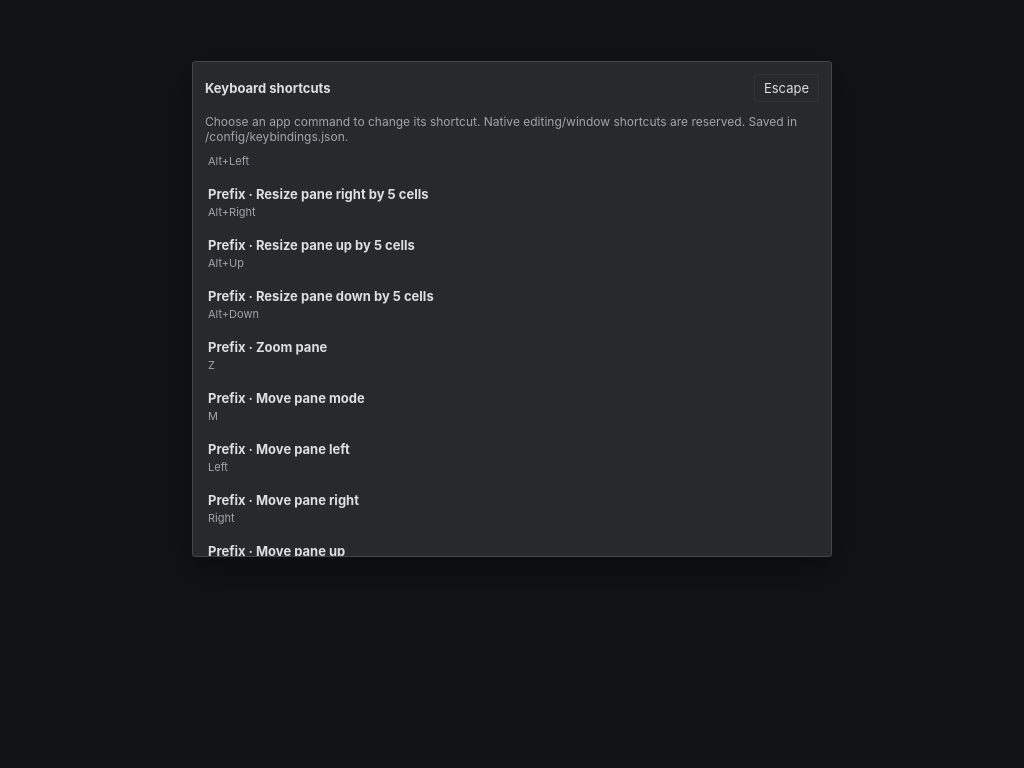
Test: reports action conflicts without writing settings
(page scrolled)
Click the option "Prefix · Zoom pane Z" at (268, 347), box [198, 330, 826, 381]
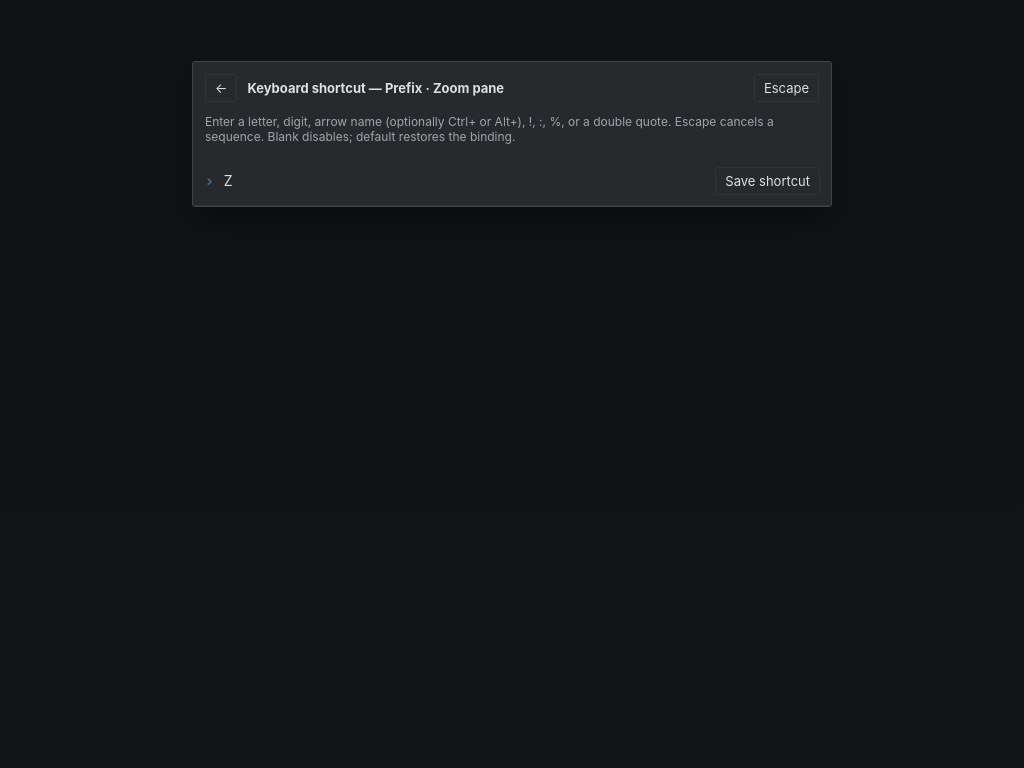
Replace the text in the field named "Shortcut" with "V" at (465, 181), box [224, 165, 706, 196]
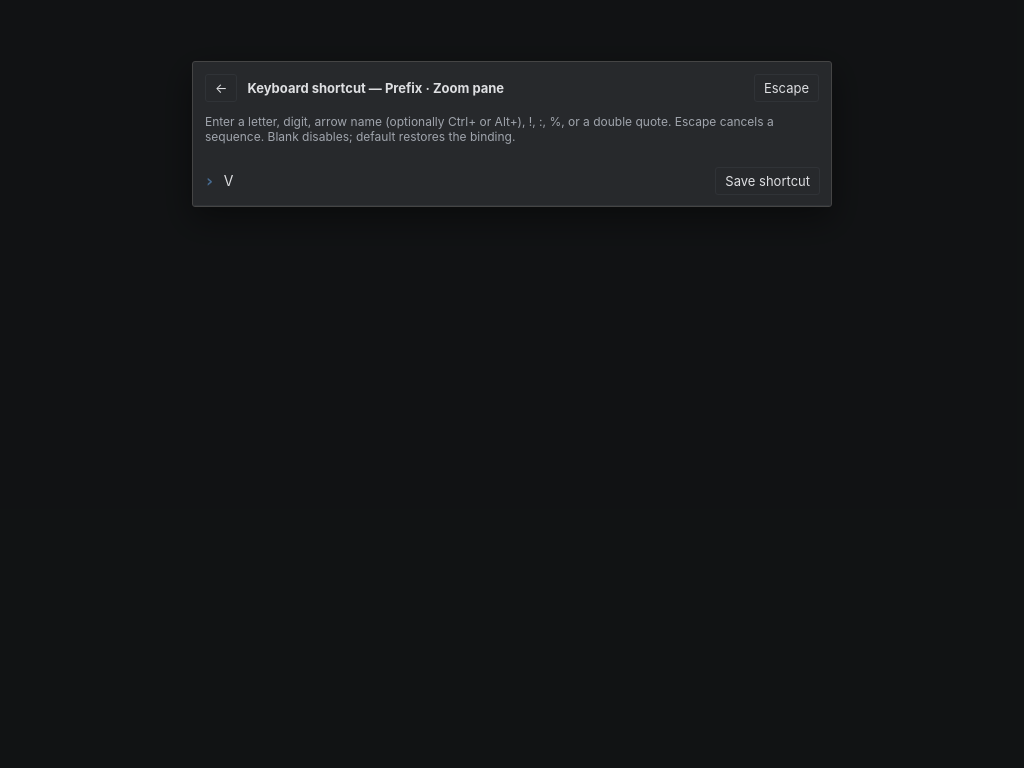
Click the button "Save shortcut" at (768, 181), box [715, 167, 820, 195]
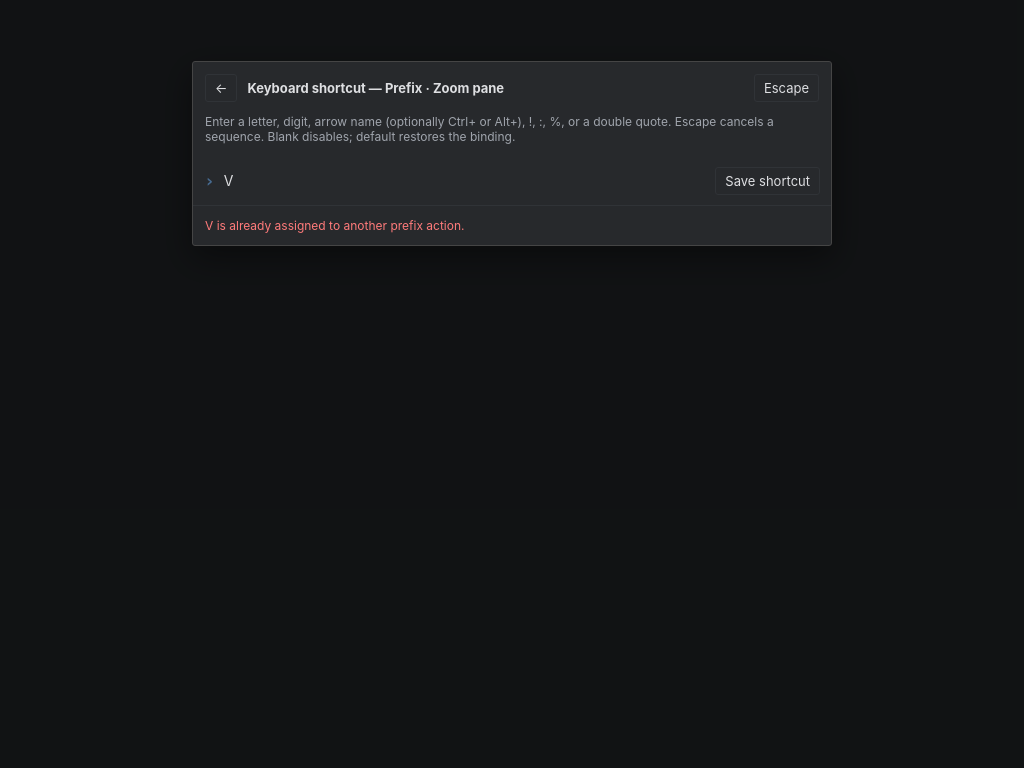
Result: the message shows "already assigned" at [205, 218, 464, 233]
